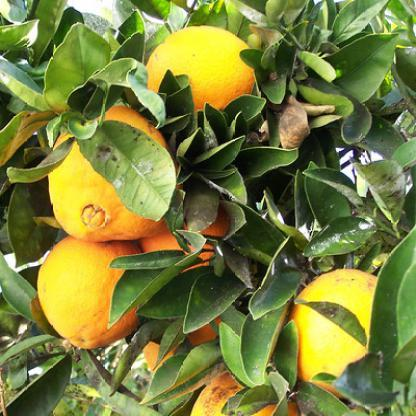lemon: (48, 104, 169, 241), (135, 213, 231, 345), (37, 235, 144, 350), (287, 268, 379, 399), (146, 26, 256, 113), (189, 368, 301, 416)
